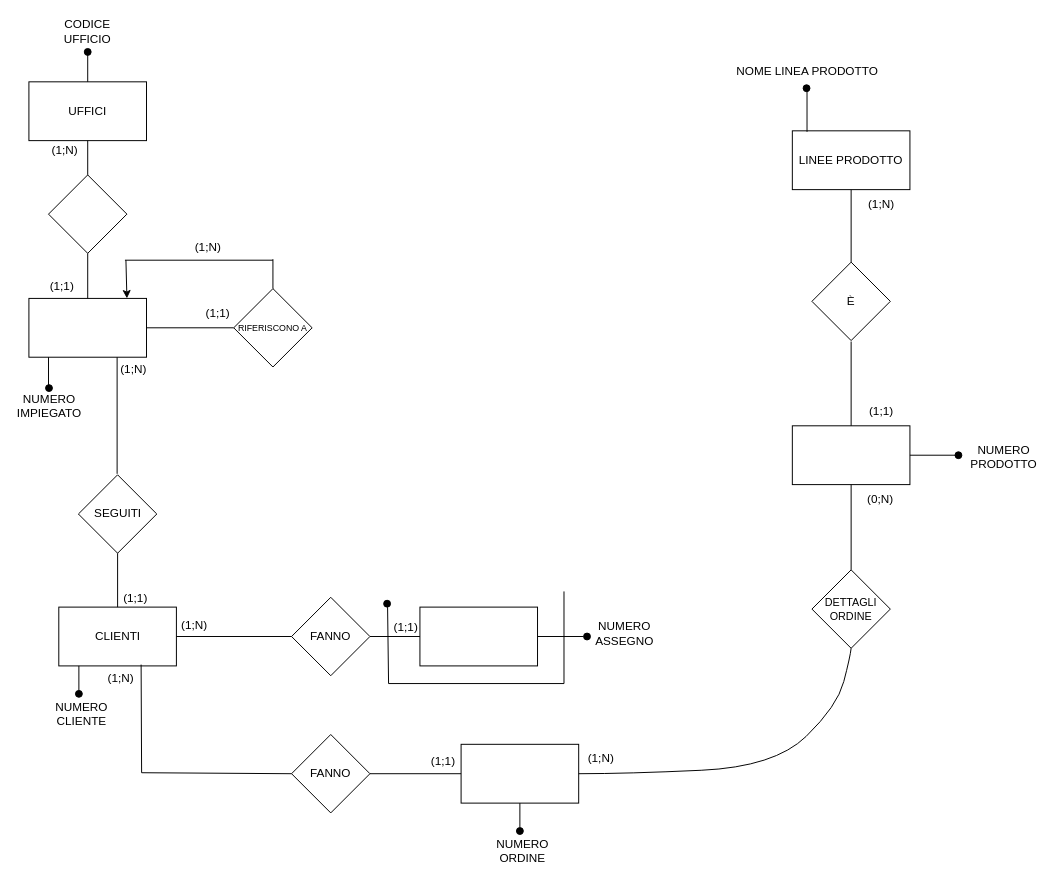
The diagram is 1054 pixels wide and 882 high, and some of its shapes have lost their labels. Here are the shapes that lost their labels. From the top down, the centre of each, then its label:
pixel 87 213: LAVORONO
pixel 87 327: IMPEGATI
pixel 850 455: PRODOTTI
pixel 478 636: PAGAMENTI
pixel 519 773: ORDINI
